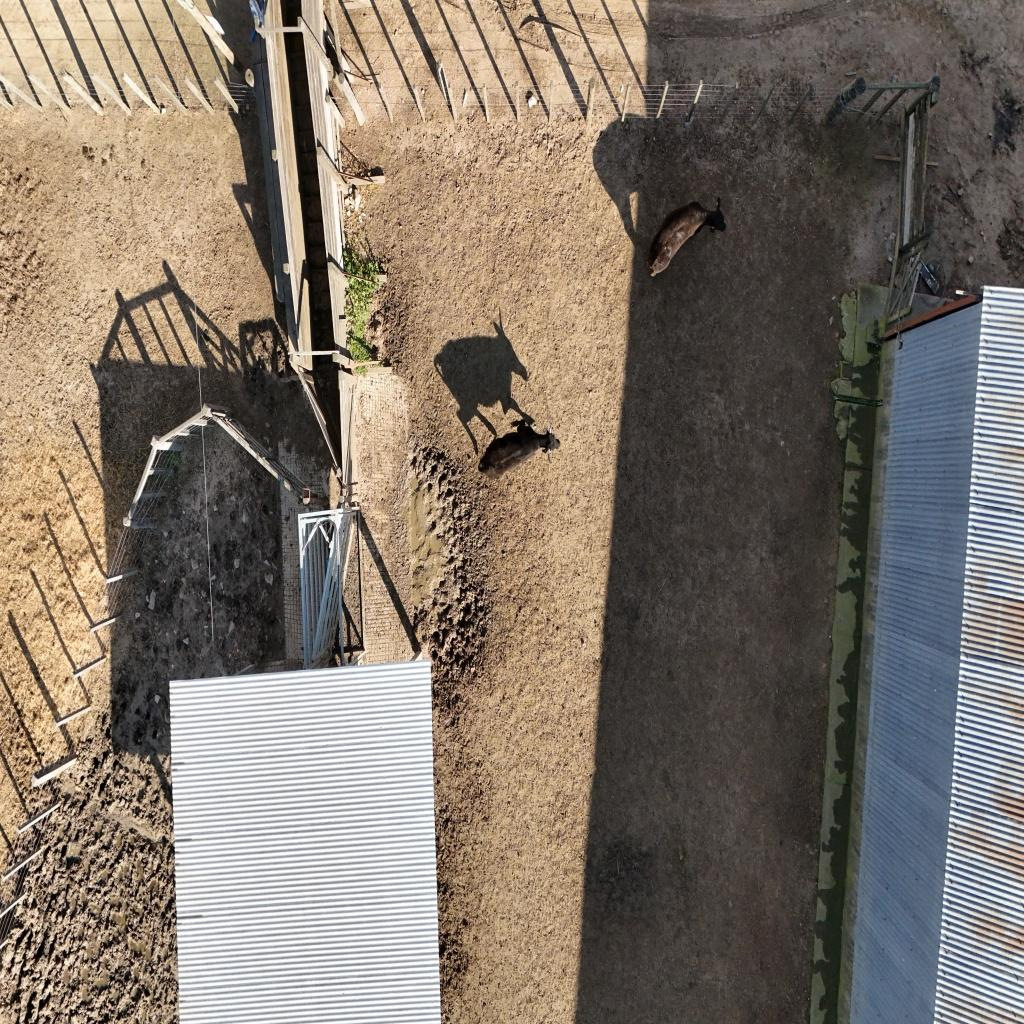cow: (646, 195, 724, 277), (478, 418, 562, 478)
